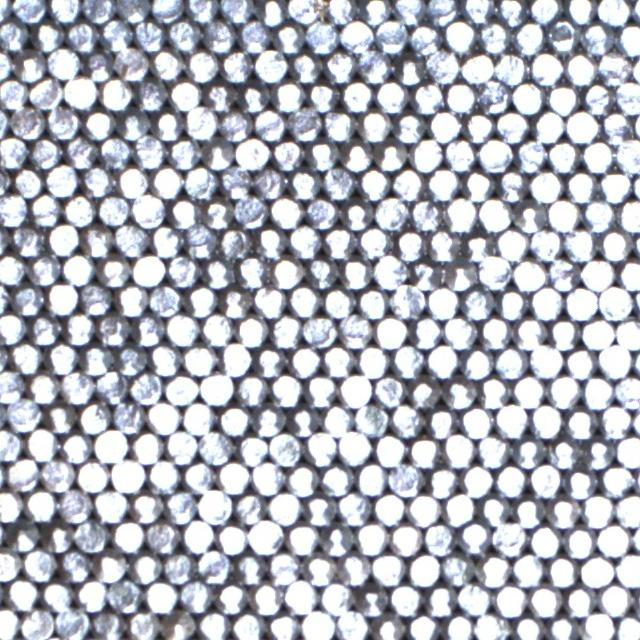tool: (74, 517, 109, 552), (248, 518, 282, 554), (180, 518, 215, 552), (354, 520, 388, 555), (164, 488, 198, 523), (492, 582, 526, 617), (353, 460, 388, 494), (597, 342, 631, 377), (198, 489, 232, 524), (457, 520, 491, 555), (110, 457, 144, 492), (92, 488, 127, 522), (24, 426, 59, 460), (144, 519, 178, 554), (146, 399, 180, 434), (6, 456, 40, 491), (529, 402, 563, 437), (425, 342, 459, 377), (492, 520, 526, 554), (267, 490, 301, 524), (114, 222, 148, 256), (130, 488, 164, 522), (268, 372, 302, 406), (268, 194, 302, 228), (443, 315, 477, 349), (406, 492, 440, 526), (580, 257, 614, 291), (234, 193, 268, 227), (370, 551, 404, 585), (354, 344, 388, 378), (111, 518, 145, 552), (388, 521, 422, 555), (338, 372, 372, 406), (390, 283, 424, 317), (305, 79, 339, 113), (28, 192, 62, 226), (267, 550, 301, 584), (62, 310, 96, 344), (284, 522, 318, 556), (78, 281, 112, 315), (216, 459, 250, 493), (5, 576, 39, 610), (131, 192, 165, 226), (564, 285, 598, 319), (77, 399, 111, 433), (26, 370, 60, 404), (75, 458, 109, 492), (546, 256, 580, 290), (302, 493, 336, 527), (406, 551, 440, 585), (319, 461, 353, 495), (546, 437, 580, 471), (338, 314, 372, 348), (128, 549, 162, 583), (114, 282, 148, 316), (388, 462, 422, 496), (166, 253, 200, 287), (80, 223, 114, 257), (40, 458, 74, 492), (108, 578, 142, 612), (305, 18, 339, 52), (181, 400, 215, 434), (164, 429, 198, 463), (444, 258, 478, 292), (422, 522, 456, 556), (202, 18, 236, 52), (199, 370, 233, 404), (579, 553, 613, 587), (197, 548, 231, 582), (252, 224, 286, 258), (528, 51, 562, 85), (597, 582, 631, 616), (269, 255, 303, 289), (478, 197, 512, 231), (408, 22, 442, 56), (302, 551, 336, 585), (374, 19, 408, 53), (408, 374, 442, 408), (357, 48, 391, 82), (372, 432, 406, 466), (579, 21, 613, 55), (373, 315, 407, 349), (457, 581, 491, 615), (129, 429, 163, 463), (130, 252, 164, 286), (476, 553, 510, 587), (96, 313, 130, 347), (563, 227, 597, 261), (61, 369, 94, 404), (391, 342, 424, 377), (216, 520, 249, 555), (442, 432, 475, 467), (218, 341, 251, 376), (597, 522, 630, 556), (341, 18, 374, 52), (546, 18, 579, 52), (132, 312, 165, 346), (63, 192, 96, 226), (581, 139, 614, 173), (338, 551, 371, 585), (409, 315, 443, 348), (545, 82, 579, 115), (112, 399, 146, 432), (580, 316, 614, 349), (530, 110, 564, 143), (442, 492, 475, 526), (441, 551, 474, 585), (494, 463, 527, 497), (163, 549, 196, 583), (512, 21, 546, 54), (407, 434, 440, 468), (64, 134, 97, 168), (357, 108, 391, 141), (529, 285, 562, 319), (182, 342, 216, 375), (563, 524, 596, 558), (28, 135, 62, 168), (478, 138, 511, 172), (512, 317, 546, 350), (58, 488, 91, 522), (130, 371, 164, 404), (116, 164, 149, 198), (337, 491, 370, 525), (253, 165, 286, 199), (512, 257, 545, 291), (12, 222, 45, 256), (8, 397, 42, 430), (11, 282, 44, 316), (512, 374, 546, 407), (340, 78, 373, 112), (59, 549, 93, 582), (40, 578, 74, 611), (218, 284, 251, 318), (564, 168, 597, 202), (598, 169, 632, 202), (547, 139, 580, 173), (286, 462, 319, 496), (81, 164, 114, 198), (233, 491, 266, 525), (461, 168, 494, 202), (356, 285, 389, 319), (581, 374, 614, 408), (581, 80, 614, 114), (494, 403, 528, 436), (565, 109, 598, 143), (356, 225, 390, 258), (288, 224, 322, 257), (182, 459, 216, 492), (355, 584, 389, 617), (11, 104, 44, 138), (582, 197, 615, 231), (269, 431, 302, 465), (372, 373, 406, 406), (252, 283, 286, 316), (75, 577, 108, 611), (79, 343, 113, 376), (288, 106, 322, 139), (410, 197, 443, 231), (529, 463, 562, 497), (95, 368, 128, 402), (355, 401, 388, 435), (219, 164, 252, 198), (512, 434, 545, 468), (321, 344, 354, 378), (303, 431, 336, 465), (320, 523, 354, 556), (529, 168, 562, 202), (599, 462, 632, 496), (511, 553, 545, 586), (185, 49, 219, 82), (180, 578, 213, 612), (443, 376, 477, 409), (303, 372, 336, 406), (91, 607, 125, 640), (150, 46, 183, 80), (63, 75, 97, 108), (185, 224, 218, 258), (426, 166, 459, 200), (372, 491, 405, 525), (45, 163, 78, 197), (150, 223, 183, 257), (94, 550, 127, 584), (26, 252, 60, 285), (232, 552, 266, 585), (99, 18, 132, 52), (44, 281, 78, 314), (200, 196, 233, 230), (322, 165, 355, 199), (528, 227, 562, 260), (598, 228, 632, 261), (21, 606, 54, 640), (337, 429, 370, 463), (55, 606, 89, 639), (563, 52, 597, 85), (284, 578, 317, 612), (22, 547, 56, 580), (148, 283, 182, 316), (426, 48, 459, 82), (146, 459, 180, 492), (134, 77, 167, 111), (47, 105, 80, 139), (444, 196, 476, 231), (288, 343, 320, 378), (443, 18, 476, 51), (165, 371, 198, 404), (495, 109, 528, 142), (410, 137, 443, 170), (428, 109, 461, 142), (460, 463, 493, 496), (581, 494, 614, 527), (28, 312, 61, 345), (115, 46, 148, 79), (546, 197, 579, 230), (547, 373, 580, 406), (494, 345, 527, 378), (253, 107, 286, 140), (235, 314, 268, 347), (357, 167, 390, 200), (598, 286, 631, 319), (341, 139, 374, 172), (10, 340, 43, 373), (514, 139, 547, 172), (303, 314, 336, 347), (564, 346, 597, 379), (150, 165, 183, 198), (306, 256, 339, 289), (252, 345, 285, 378), (236, 136, 269, 169), (460, 346, 493, 379), (529, 344, 562, 377), (168, 196, 201, 229), (134, 18, 167, 51), (251, 460, 284, 493), (511, 80, 544, 113), (184, 166, 217, 199), (393, 110, 426, 143), (185, 105, 218, 138), (144, 579, 177, 612), (374, 196, 407, 229), (564, 466, 597, 499), (254, 48, 287, 81), (547, 317, 580, 350), (319, 580, 352, 613), (82, 107, 115, 140), (391, 403, 424, 436), (8, 520, 41, 553), (115, 343, 148, 376), (563, 584, 596, 617), (271, 79, 304, 112), (597, 50, 630, 83), (598, 404, 631, 437), (460, 404, 493, 437), (200, 430, 233, 463), (427, 229, 460, 262), (251, 403, 284, 436), (117, 109, 150, 142), (215, 581, 248, 614), (59, 430, 92, 463), (29, 76, 62, 109), (273, 21, 306, 54), (564, 406, 597, 439), (236, 255, 269, 288), (82, 48, 115, 81), (373, 255, 406, 288), (322, 226, 355, 259), (96, 254, 129, 287), (477, 79, 510, 112), (425, 465, 458, 498), (392, 166, 424, 200), (444, 80, 476, 114), (12, 164, 44, 198), (444, 137, 476, 171), (218, 108, 252, 140), (201, 312, 233, 346), (134, 134, 166, 168), (236, 372, 268, 406), (411, 80, 443, 114), (270, 314, 302, 348), (217, 403, 251, 435), (185, 283, 217, 317), (288, 283, 320, 317), (548, 495, 580, 529), (161, 608, 195, 640), (304, 196, 338, 228), (97, 192, 129, 226), (94, 428, 126, 462), (167, 78, 201, 110), (422, 584, 456, 616), (149, 342, 181, 376), (477, 256, 511, 288), (393, 228, 427, 260), (476, 434, 510, 466), (478, 374, 510, 408), (286, 404, 320, 436), (168, 136, 200, 169), (166, 312, 198, 345), (479, 316, 511, 349), (238, 20, 271, 52), (288, 168, 321, 200), (168, 18, 200, 51), (306, 138, 339, 170), (496, 287, 528, 320), (46, 222, 78, 255), (546, 554, 578, 587), (66, 18, 98, 51), (512, 496, 545, 528), (340, 256, 372, 289), (528, 584, 561, 616), (496, 168, 528, 201), (201, 256, 234, 288), (271, 138, 303, 171), (219, 226, 252, 258), (462, 287, 494, 320), (202, 80, 234, 113), (24, 487, 56, 520), (322, 286, 354, 319), (600, 109, 632, 142), (202, 138, 234, 171), (100, 77, 132, 110), (45, 401, 77, 434), (62, 252, 94, 285), (478, 20, 510, 53), (46, 46, 79, 78), (528, 524, 561, 556), (238, 80, 270, 113), (494, 228, 527, 260), (582, 436, 614, 469), (236, 432, 268, 465), (45, 341, 77, 374), (220, 49, 252, 82), (394, 53, 426, 86), (514, 200, 546, 233), (43, 521, 75, 554), (288, 51, 321, 83), (250, 580, 282, 613), (322, 50, 354, 83), (376, 140, 408, 173), (374, 80, 407, 112), (407, 260, 440, 292), (425, 405, 457, 438), (300, 609, 334, 640), (126, 609, 160, 640), (32, 20, 64, 52), (321, 402, 353, 434), (463, 110, 495, 142), (495, 52, 527, 84), (340, 199, 372, 231), (478, 494, 510, 526), (323, 109, 355, 141), (13, 50, 45, 82), (389, 582, 421, 614), (427, 286, 459, 318), (151, 108, 183, 140), (461, 52, 493, 84), (98, 136, 130, 168), (336, 609, 369, 640), (197, 609, 230, 640), (230, 610, 264, 640), (266, 610, 300, 640), (462, 231, 494, 262), (580, 611, 614, 640), (474, 612, 508, 640), (0, 76, 28, 110), (442, 611, 474, 640), (0, 18, 29, 50), (406, 612, 439, 640), (0, 192, 27, 226), (372, 613, 406, 640), (546, 613, 579, 640), (0, 135, 27, 168), (0, 310, 26, 344), (495, 0, 528, 26), (254, 0, 287, 26), (615, 492, 640, 526), (615, 374, 640, 408), (596, 0, 630, 25), (0, 368, 25, 402), (615, 138, 640, 172), (615, 433, 640, 467), (615, 80, 640, 114), (615, 552, 640, 586), (512, 614, 544, 640), (0, 252, 26, 284), (425, 0, 458, 25), (616, 316, 640, 350), (460, 0, 494, 24), (358, 0, 390, 25), (392, 0, 425, 24), (616, 22, 640, 55), (221, 0, 254, 24), (290, 0, 324, 23), (617, 198, 640, 232), (617, 257, 640, 291), (564, 0, 596, 24), (325, 0, 357, 24), (0, 427, 23, 460), (186, 0, 219, 23), (529, 0, 562, 23), (150, 0, 183, 23), (0, 488, 22, 522), (116, 0, 149, 22), (81, 0, 114, 22), (0, 548, 21, 582), (14, 0, 46, 22), (48, 0, 80, 22), (0, 606, 20, 640), (615, 613, 640, 640)
